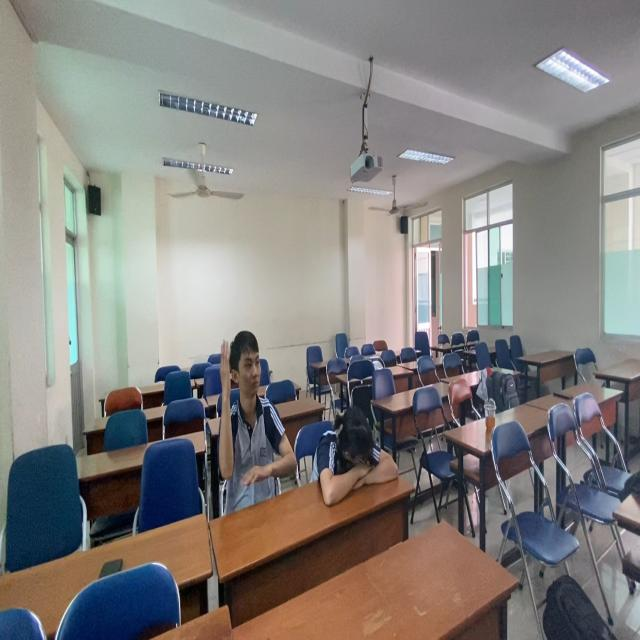raise_hand: (216, 328, 302, 499)
sleep: (312, 399, 403, 502)
